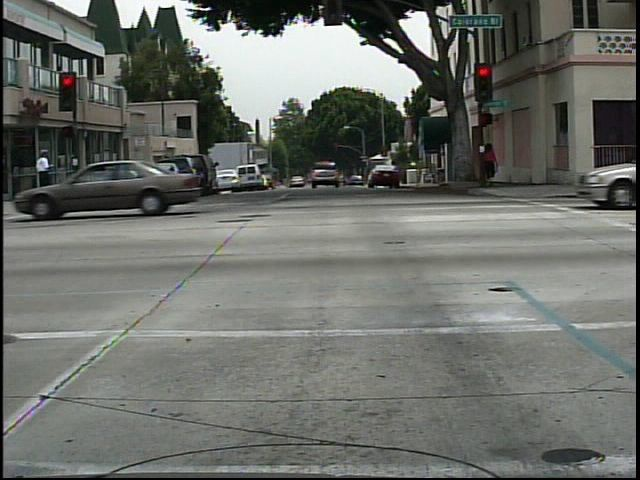person: (29, 143, 58, 193), (482, 140, 502, 192)
